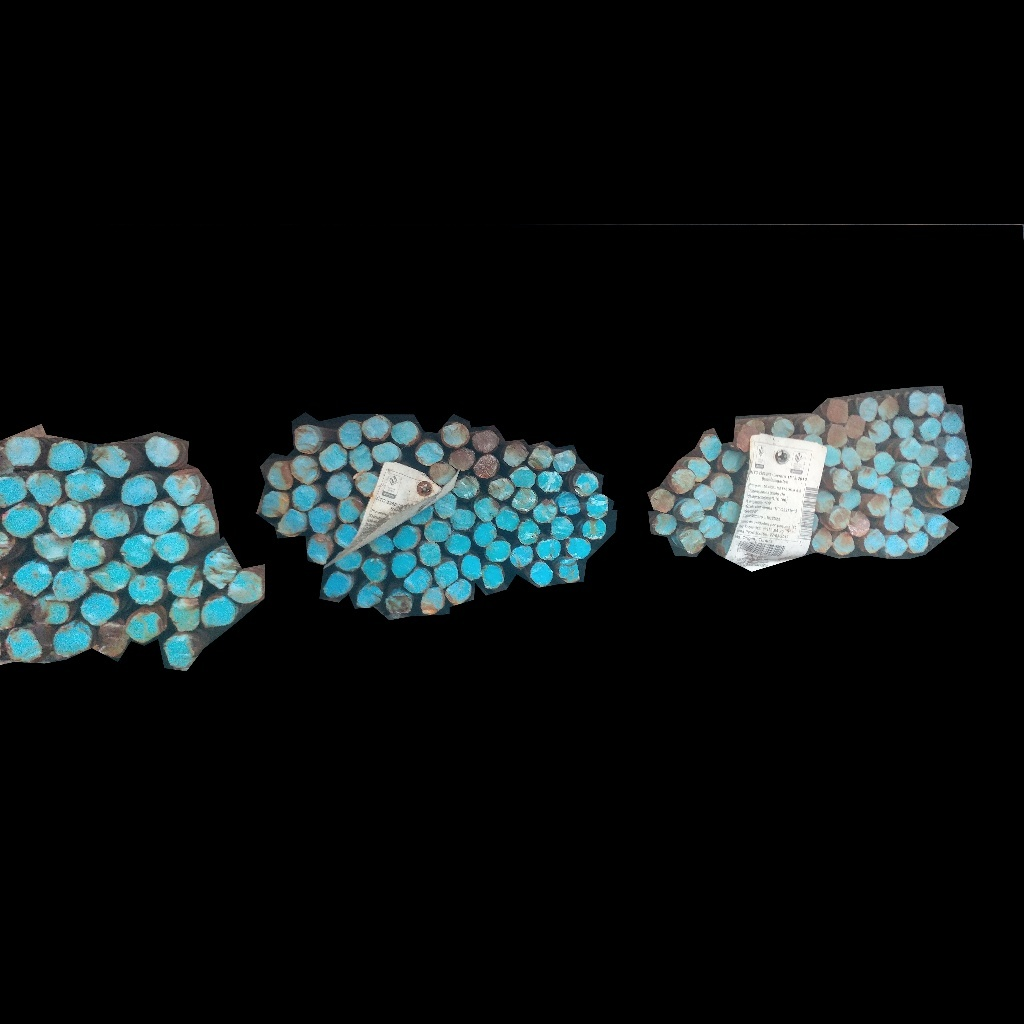dipstick: (202, 550, 237, 590), (63, 469, 106, 501), (1, 507, 44, 538), (225, 569, 263, 604), (91, 446, 131, 478), (45, 440, 86, 471), (93, 620, 129, 655), (31, 532, 73, 562), (81, 592, 118, 626), (47, 503, 85, 536), (53, 626, 91, 659), (90, 560, 129, 592), (143, 501, 178, 536), (26, 471, 61, 506), (167, 566, 204, 599), (163, 474, 201, 506), (13, 564, 51, 596), (91, 509, 131, 539), (129, 573, 165, 606), (52, 568, 88, 601), (5, 629, 41, 662), (180, 505, 217, 537), (120, 477, 159, 507), (152, 532, 190, 562), (169, 597, 200, 633), (126, 612, 162, 643), (69, 539, 105, 570), (120, 534, 153, 567), (144, 437, 180, 467), (5, 436, 41, 466), (29, 598, 71, 623), (201, 598, 234, 628), (163, 635, 193, 667), (306, 533, 333, 566), (276, 508, 306, 537), (290, 453, 318, 484), (1, 476, 27, 509), (318, 443, 347, 471), (293, 424, 322, 452), (403, 568, 432, 595), (433, 559, 459, 589), (266, 460, 293, 488), (326, 472, 352, 501), (308, 504, 333, 534), (260, 492, 290, 517), (441, 422, 470, 447), (1, 594, 20, 631), (678, 529, 705, 555), (573, 472, 599, 499), (502, 442, 529, 468), (585, 492, 609, 521), (338, 421, 362, 450), (349, 443, 373, 472), (421, 586, 444, 616), (527, 444, 553, 470), (535, 469, 563, 493), (389, 422, 417, 446), (361, 415, 389, 439), (371, 442, 403, 463), (324, 572, 350, 597), (416, 441, 443, 465), (444, 579, 471, 603), (509, 466, 537, 489), (471, 430, 499, 453), (360, 558, 388, 581), (679, 499, 704, 524), (532, 497, 557, 522), (453, 474, 478, 499), (354, 471, 379, 496), (291, 484, 316, 509), (736, 426, 760, 452), (697, 514, 723, 538), (473, 453, 497, 479), (417, 541, 441, 567), (390, 552, 416, 576), (434, 492, 457, 519), (533, 539, 561, 561), (355, 587, 383, 609), (385, 593, 414, 614), (670, 469, 694, 494), (512, 488, 537, 512), (475, 497, 499, 522), (392, 526, 416, 551), (649, 490, 675, 513), (565, 536, 591, 559), (516, 520, 539, 546), (488, 477, 514, 500), (480, 564, 503, 590), (338, 499, 364, 522), (484, 540, 511, 562), (334, 550, 362, 571), (722, 449, 746, 473), (529, 561, 553, 585), (509, 545, 533, 569), (449, 448, 473, 472), (944, 459, 969, 482), (687, 458, 710, 483), (495, 506, 518, 531), (474, 522, 497, 547), (450, 509, 475, 532), (863, 528, 885, 554), (423, 520, 450, 541), (867, 421, 891, 444), (582, 518, 606, 541), (446, 533, 470, 556), (848, 511, 870, 536), (811, 527, 833, 552), (652, 513, 677, 535), (549, 517, 574, 539), (333, 524, 358, 546), (917, 418, 940, 441), (825, 399, 848, 422), (557, 492, 580, 515), (699, 437, 721, 461), (554, 450, 576, 474), (945, 436, 966, 461), (694, 485, 715, 510), (559, 558, 580, 583), (908, 390, 928, 416), (428, 464, 454, 484), (915, 443, 938, 465), (907, 530, 930, 552), (885, 534, 908, 556), (873, 451, 895, 474), (833, 531, 855, 554), (717, 501, 739, 524), (903, 508, 924, 532), (712, 474, 733, 498), (770, 418, 795, 438), (461, 555, 480, 581), (826, 424, 848, 446), (878, 397, 899, 420), (900, 437, 921, 460), (884, 510, 905, 533), (867, 494, 890, 515), (892, 486, 912, 510), (844, 413, 864, 437), (368, 536, 393, 555), (941, 412, 963, 433), (830, 507, 851, 529), (832, 469, 853, 491), (927, 515, 947, 538), (926, 392, 944, 417), (839, 489, 861, 509), (856, 467, 875, 490), (841, 446, 860, 469), (802, 416, 825, 435), (410, 505, 433, 524), (859, 396, 877, 420), (856, 436, 874, 460), (824, 443, 842, 467), (927, 467, 947, 488), (894, 417, 914, 438), (939, 486, 961, 505), (815, 490, 834, 511), (902, 464, 920, 486), (873, 477, 893, 493), (747, 419, 766, 434), (804, 434, 822, 446)
